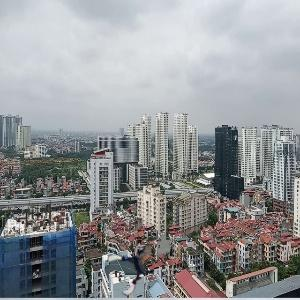drone: (110, 248, 156, 294)
